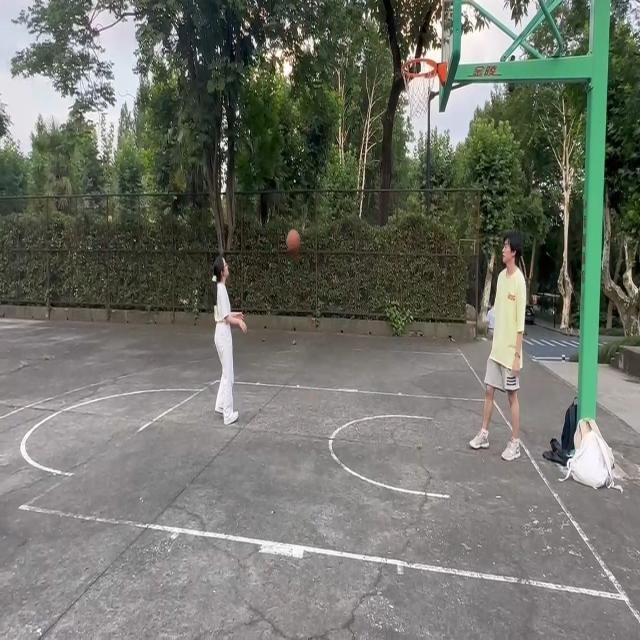basketball: (401, 55, 445, 121)
rim: (284, 228, 302, 254)
